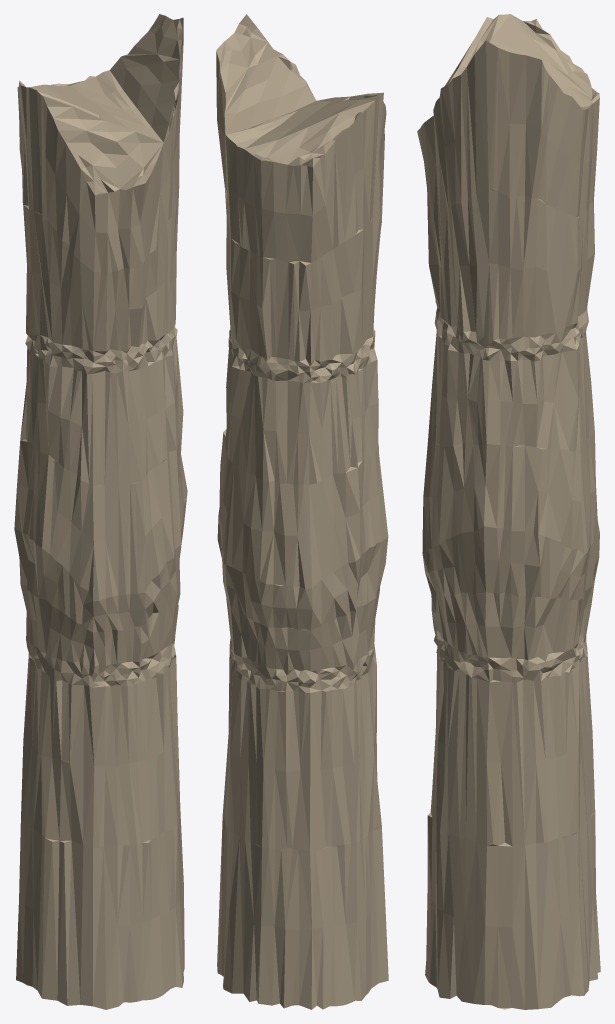
The model's file is SM_Pillar_Broken.fbx.
3 views of the same model, side by side, from view 1: azimuth 30°, elevation 25°; view 2: azimuth 150°, elevation 25°; view 3: azimuth 270°, elevation 25° (orthographic). The views are drawn at different scales.
Visible parts, largest first — view 1: SM_Pillar_Broken; view 2: SM_Pillar_Broken; view 3: SM_Pillar_Broken.
Boxes of the visible parts, x1=… form: SM_Pillar_Broken: x1=14, y1=14, x2=187, y2=1009; SM_Pillar_Broken: x1=216, y1=14, x2=388, y2=1009; SM_Pillar_Broken: x1=417, y1=14, x2=600, y2=1009.
Size of the model in its own units: 0.4893 by 3.02 by 0.5181.
